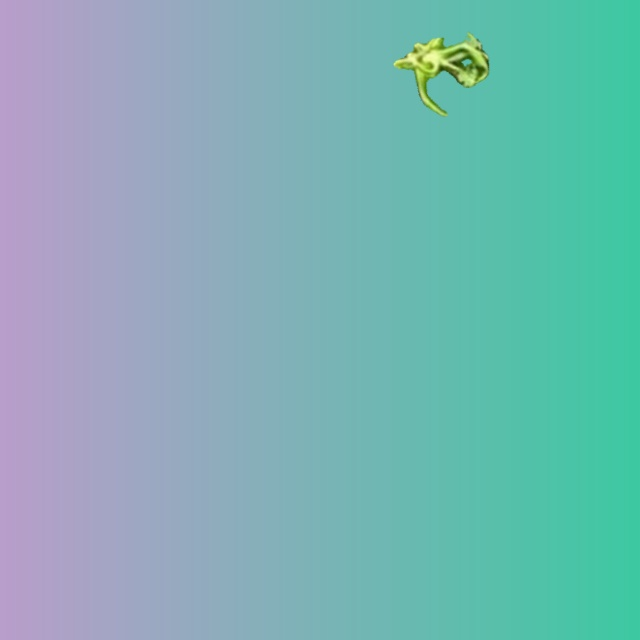ylang-ylang: (394, 32, 488, 116)
